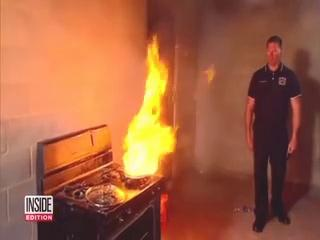Fire: (123, 22, 178, 176)
